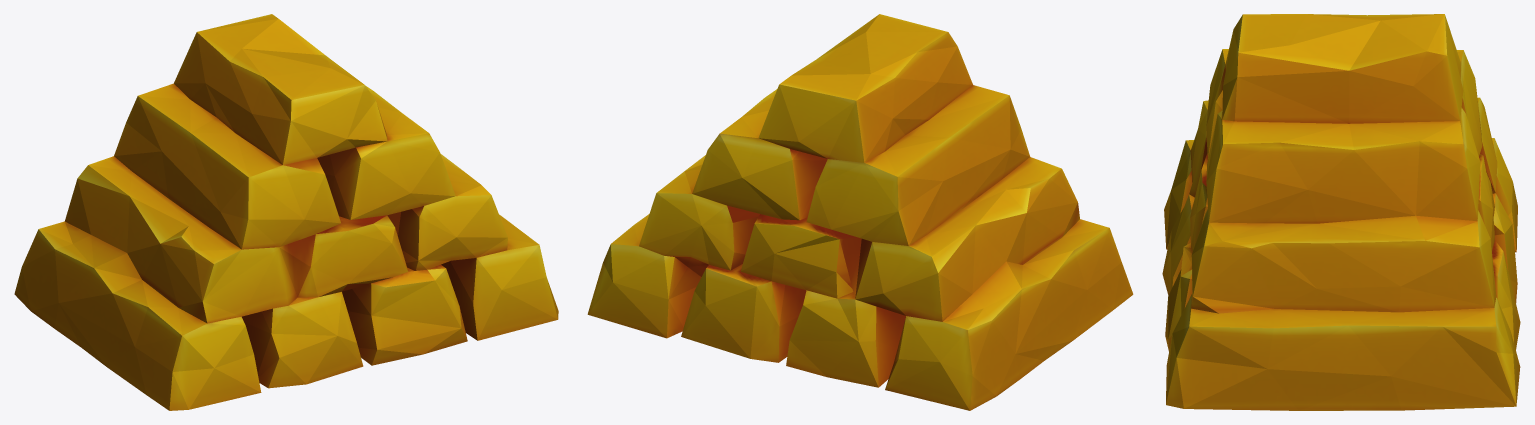
Rendered from gold_bars.glb.
The picture shows the model from 3 angles, left to right: view 1: azimuth 30°, elevation 25°; view 2: azimuth 150°, elevation 25°; view 3: azimuth 270°, elevation 25°; orthographic projection. The views are drawn at different scales.
Visible parts, largest first — view 1: geometry_0; view 2: geometry_0; view 3: geometry_0.
Boxes of the visible parts, x1,y1,x2,y2 form: geometry_0: [14, 14, 558, 410]; geometry_0: [587, 14, 1133, 410]; geometry_0: [1162, 14, 1520, 410].
Size of the model in its own units: 0.9988 by 0.6224 by 0.7272.
1 material, 1 textured.
